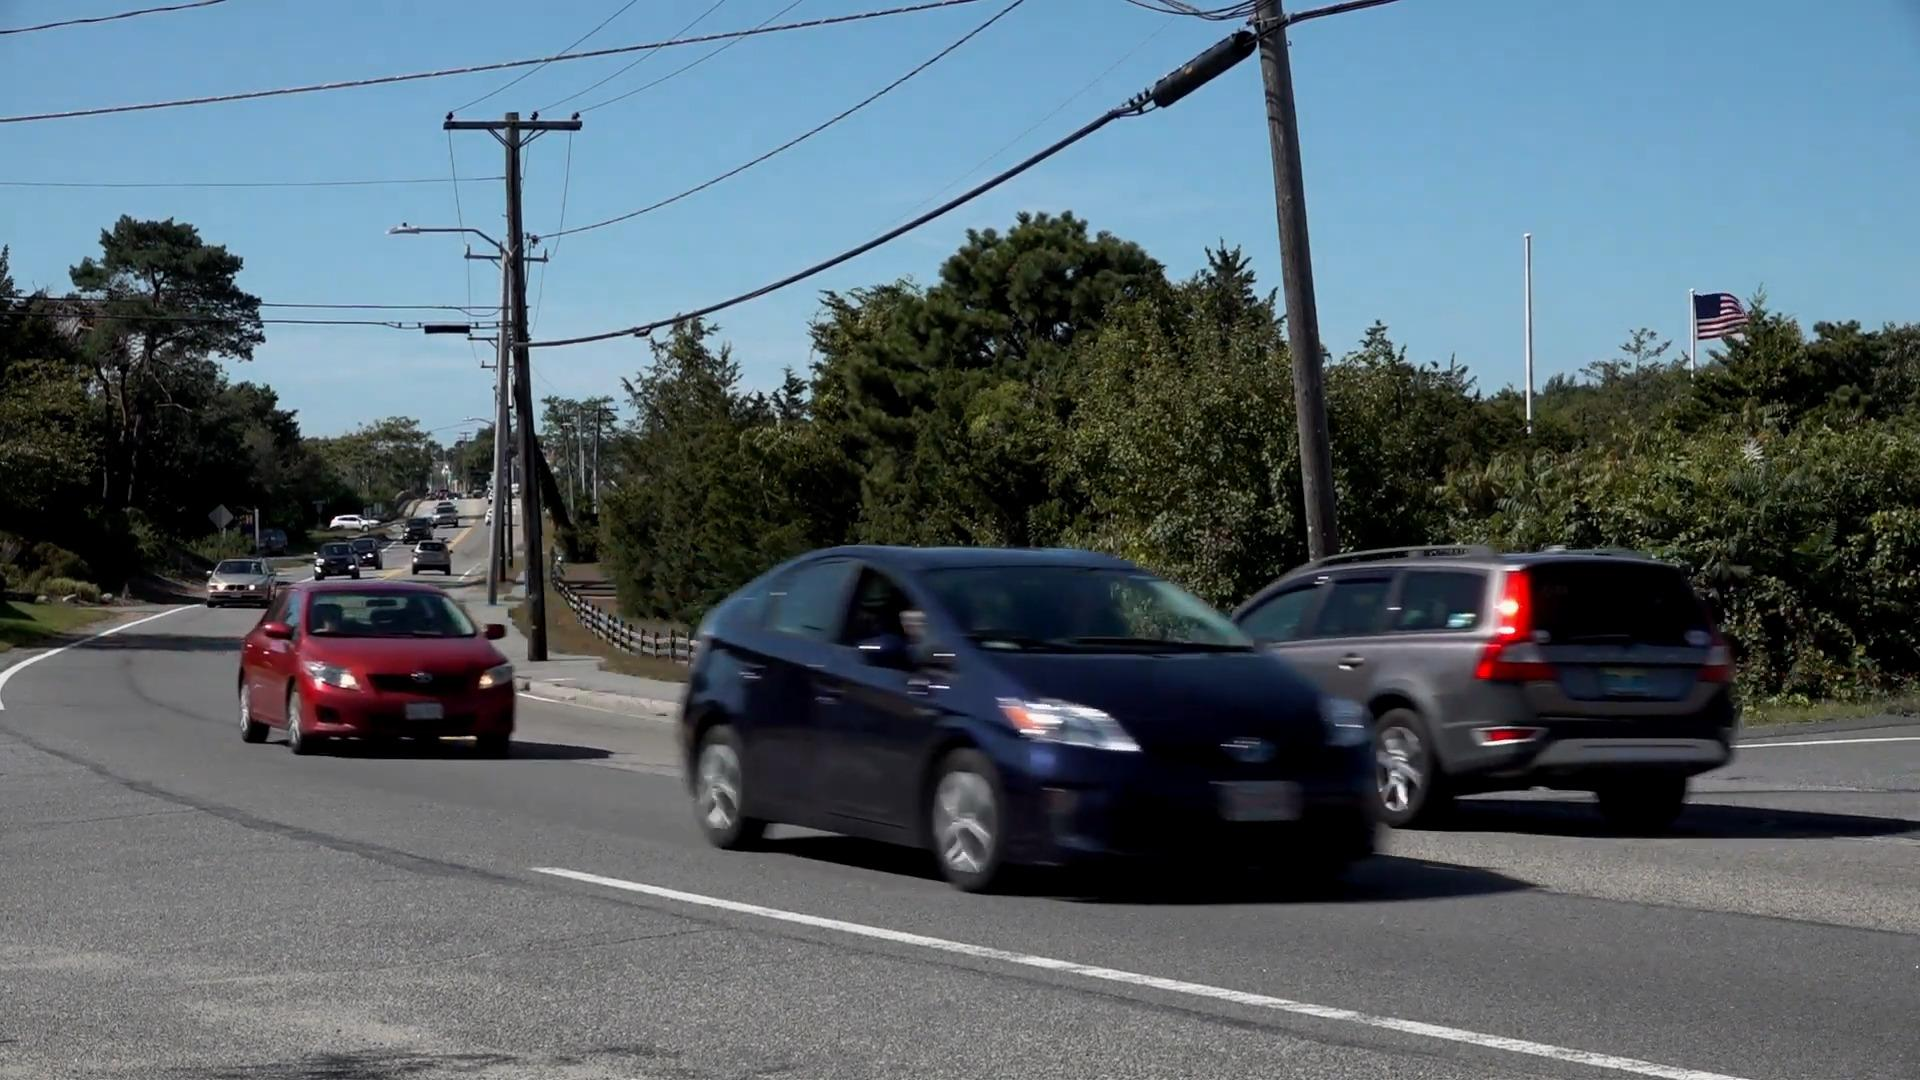sedans: (678, 537, 1382, 897), (233, 580, 516, 752)
suv: (1217, 545, 1747, 827)
